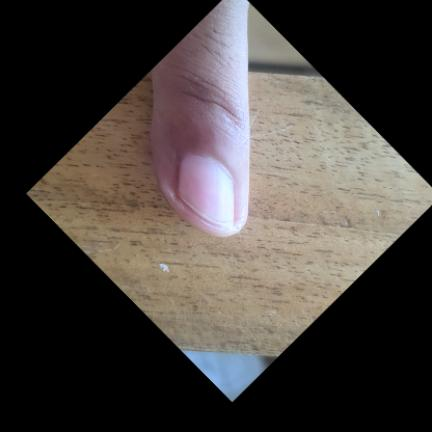Nail: (178, 156, 235, 226)
